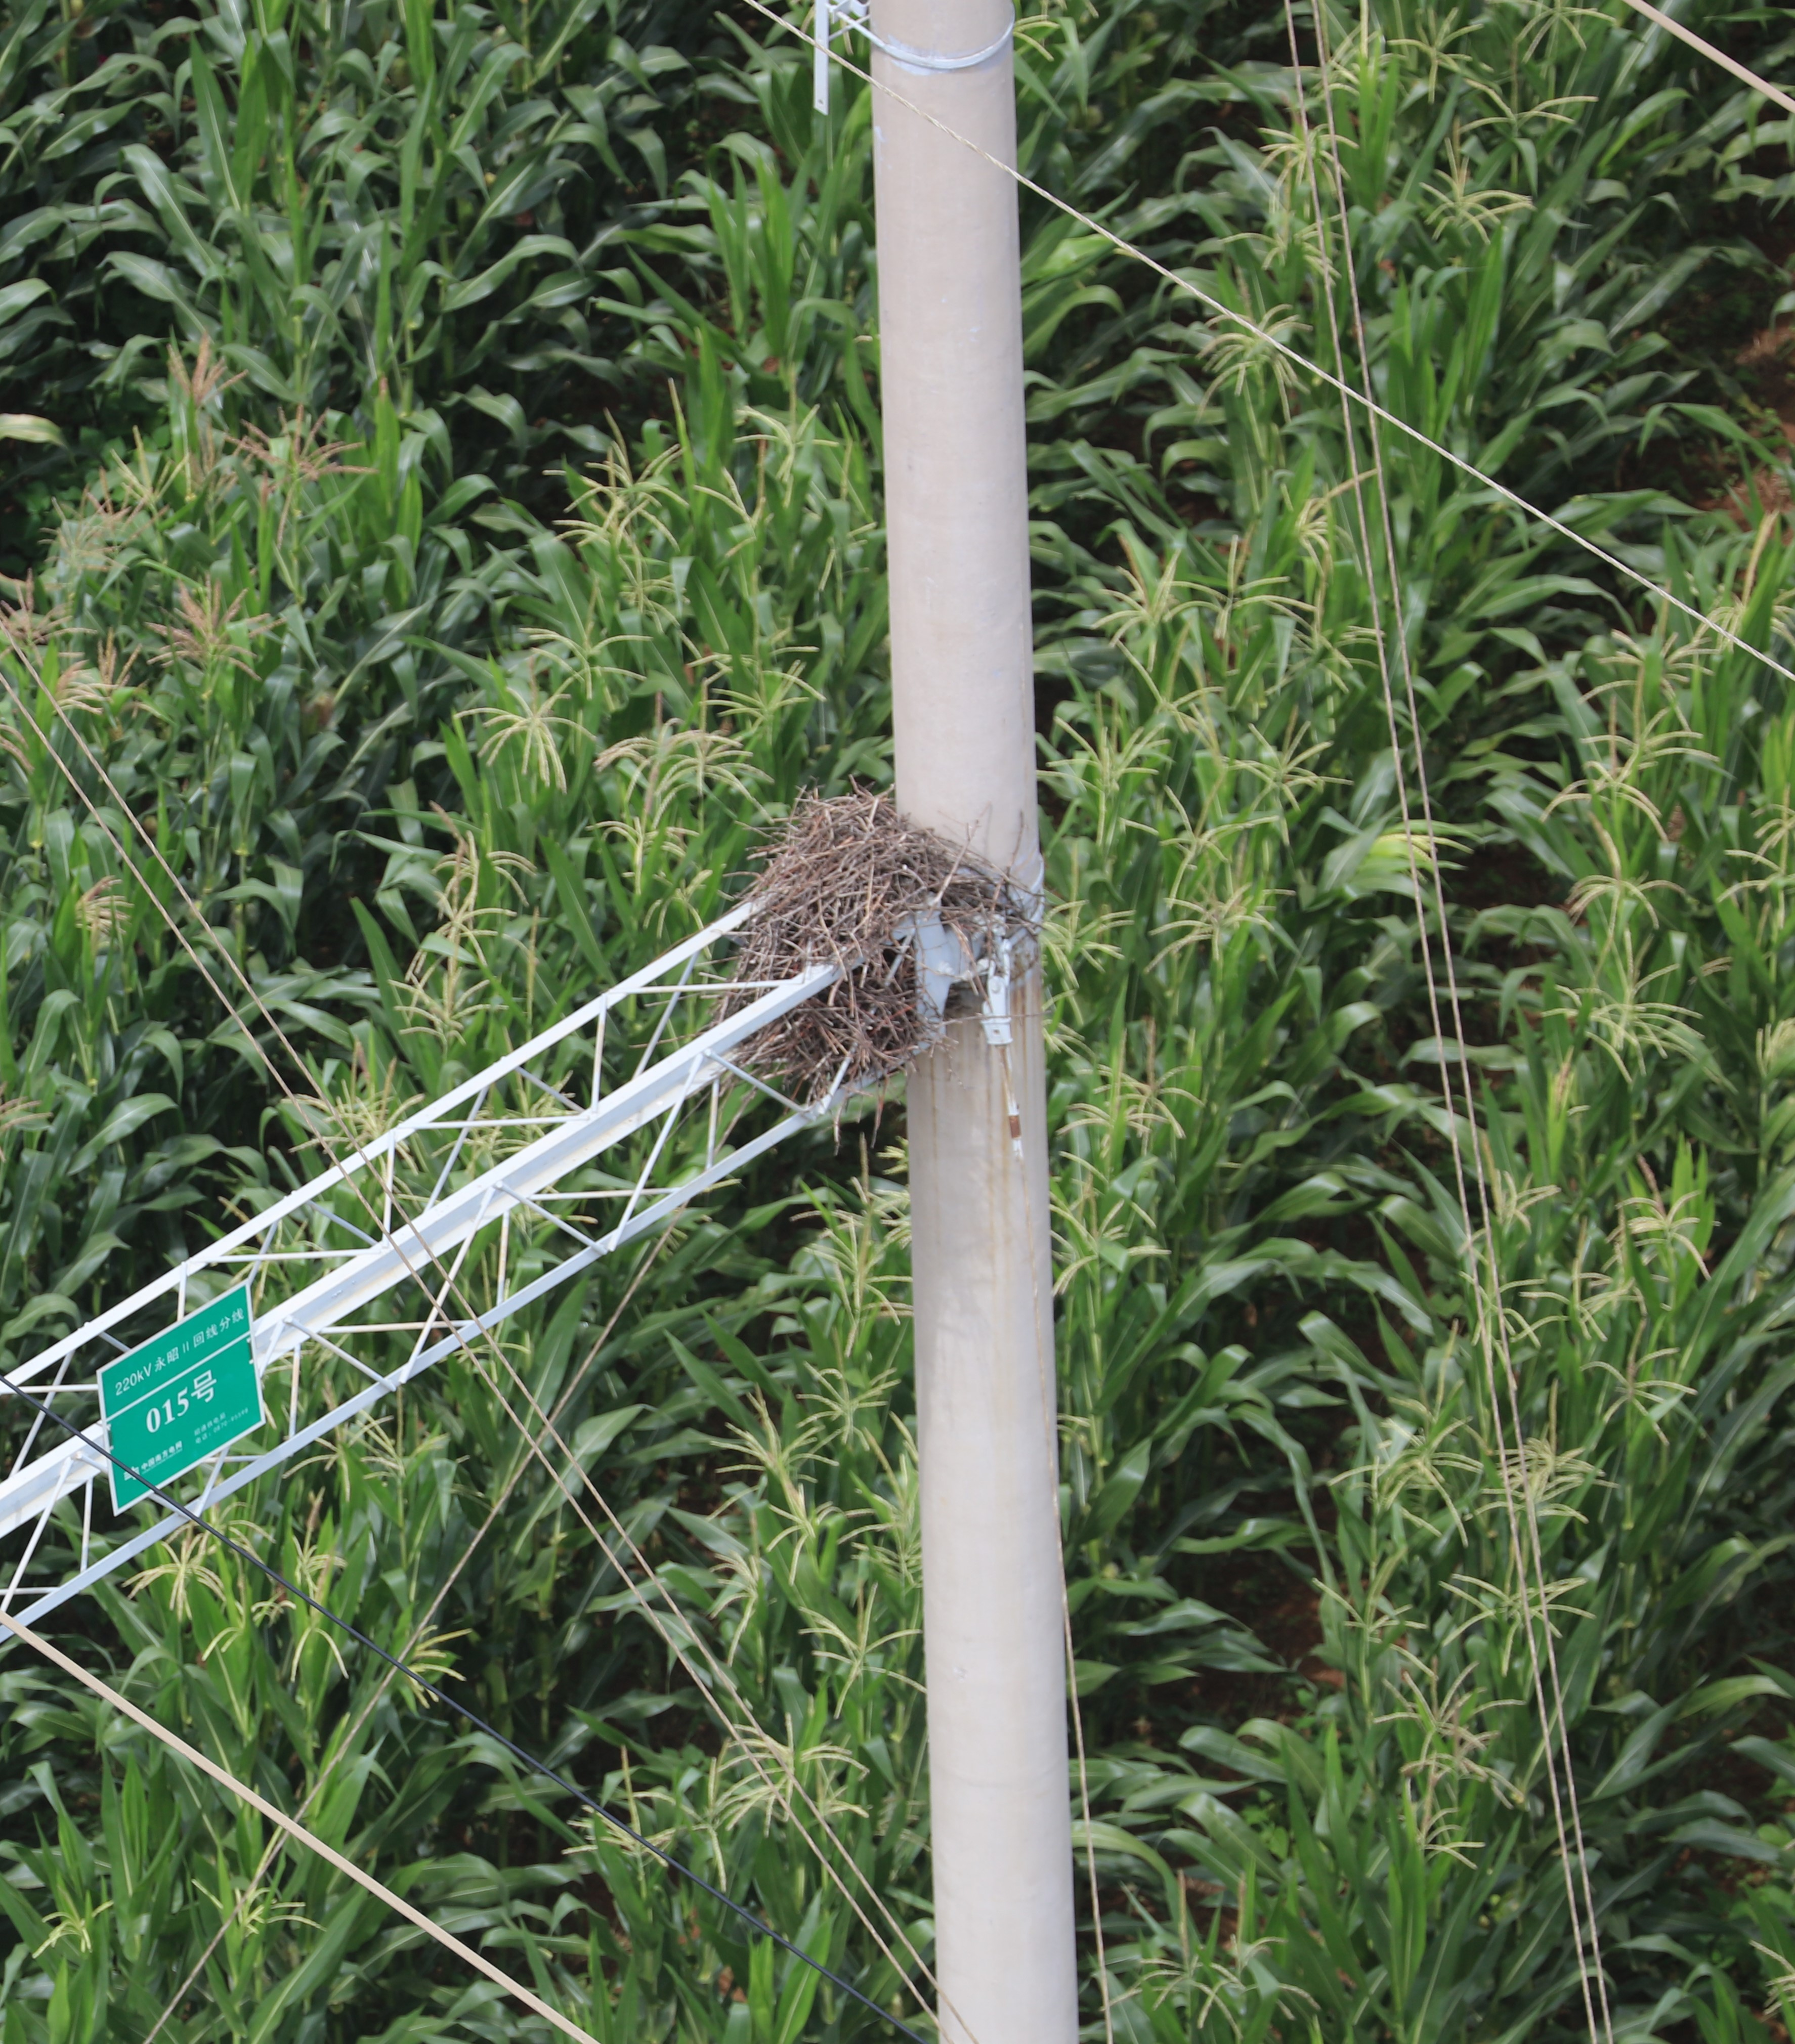niaowo: (707, 779, 1036, 1126)
